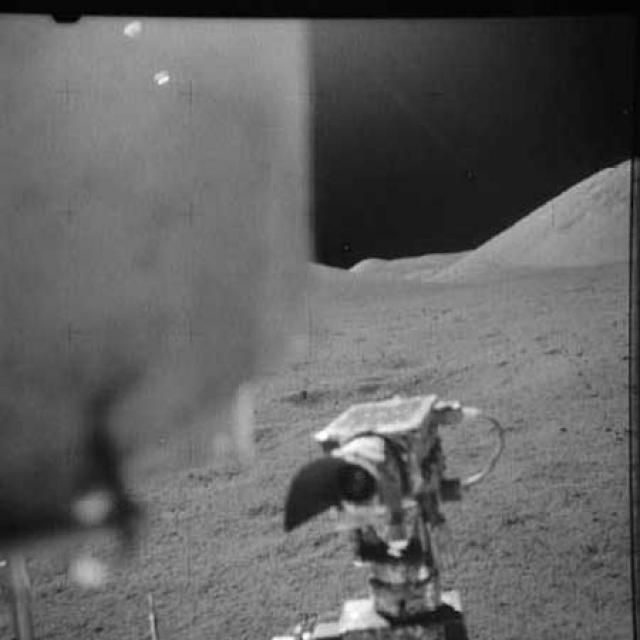artifact: (0, 6, 310, 640), (279, 391, 515, 639)
